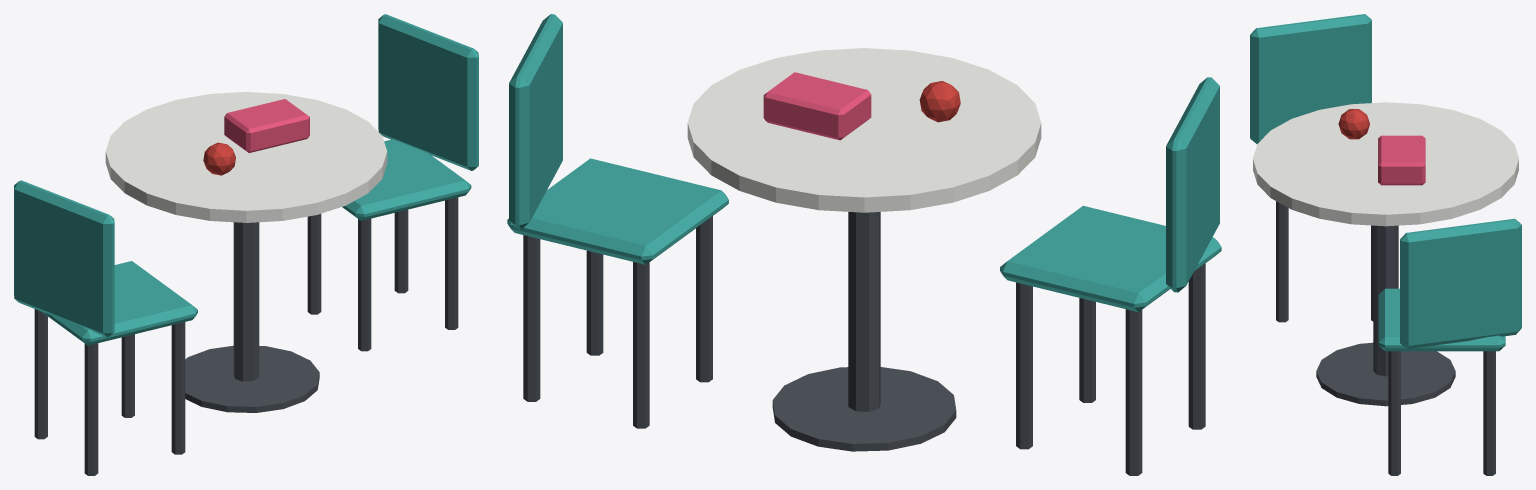
The model's file is kitchen_table.glb.
3 renders of one model, left to right at view 1: azimuth 30°, elevation 25°; view 2: azimuth 150°, elevation 25°; view 3: azimuth 270°, elevation 25°, orthographic. The views are drawn at different scales.
Visible parts, largest first — view 1: kitchen_table_mesh; view 2: kitchen_table_mesh; view 3: kitchen_table_mesh.
Part boxes in pixels (bbox=[...]): kitchen_table_mesh: bbox=[14, 14, 478, 475]; kitchen_table_mesh: bbox=[507, 14, 1221, 475]; kitchen_table_mesh: bbox=[1250, 14, 1521, 475].
Size of the model in its own units: 1.68 by 0.88 by 0.8579.
